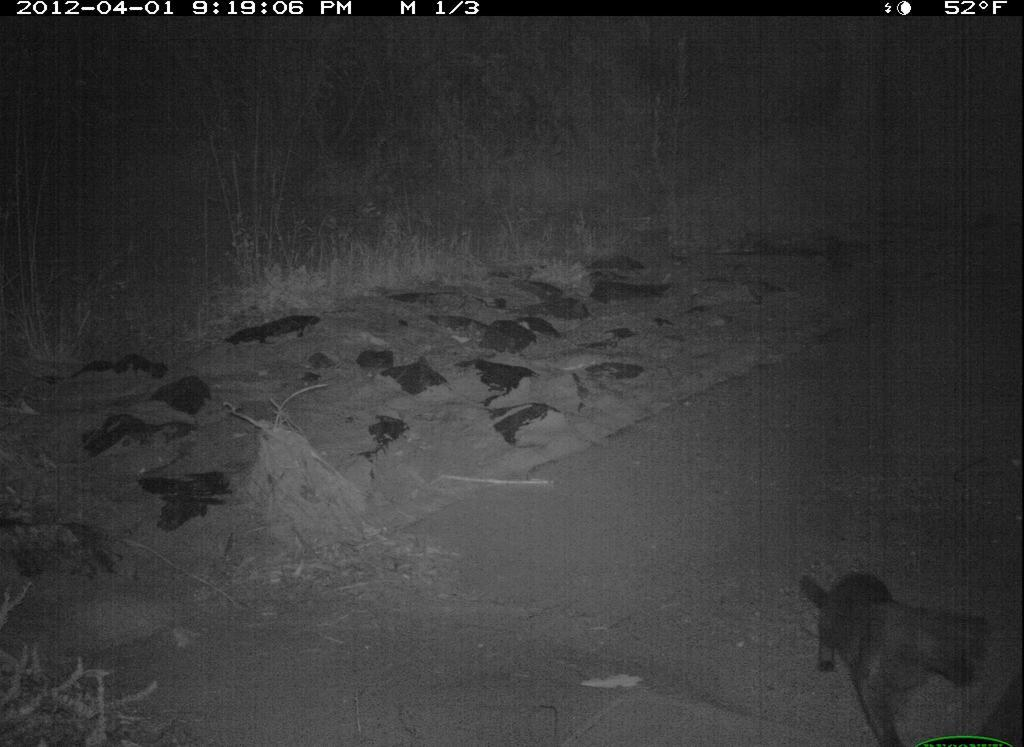cat: (786, 553, 998, 745)
